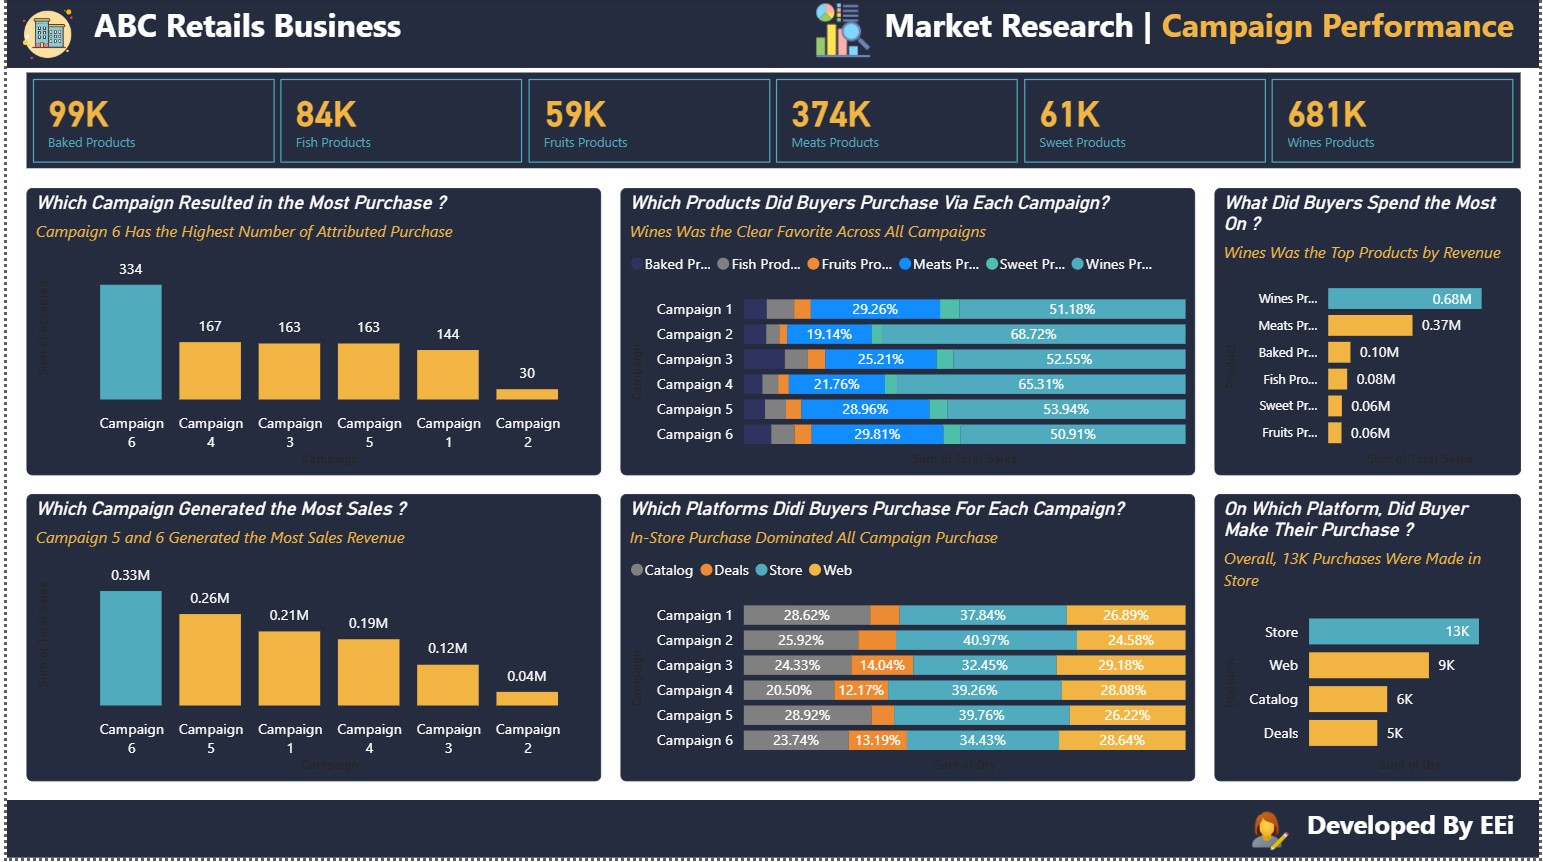

The page's visual inventory and layout, read from the dashboard file:
{"tool":"powerbi","page":{"name":"Campaign Performance","canvas":[1280,720],"ordinal":0},"visuals":[{"type":"shape","box":[0,0,1280,60],"z":0},{"type":"shape","box":[0,672,1280,48],"z":1000},{"type":"textbox","box":[67.5,0,332.2,57.1],"z":2000},{"type":"textbox","box":[688,0,576,64],"z":3000},{"type":"textbox","box":[688,672,576,48],"z":4000},{"type":"clusteredColumnChart","title":"Which Campaign Resulted in the Most Purchase ?","fields":{"Category":["Campaign.Campaign"],"Y":["Sum(Campaign.Accepted)"]},"box":[16,160,480,240],"z":5000},{"type":"columnChart","title":"Which Campaign Generated the Most Sales ?","fields":{"Category":["Campaign.Campaign"],"Y":["Sum(Product.Total Sales)"]},"box":[16,416,480,240],"z":6000},{"type":"hundredPercentStackedBarChart","title":"Which Products Did Buyers Purchase Via Each Campaign?","fields":{"Category":["Campaign.Campaign"],"Y":["Sum(Product.Total Sales)"],"Series":["Product.Product"]},"box":[512,160,480,240],"z":7000},{"type":"clusteredBarChart","title":"What Did Buyers Spend the Most On ?","fields":{"Category":["Product.Product"],"Y":["Sum(Product.Total Sales)"]},"box":[1008,160,256,240],"z":8000},{"type":"hundredPercentStackedBarChart","title":"Which Platforms Didi Buyers Purchase For Each Campaign?","fields":{"Category":["Campaign.Campaign"],"Y":["Sum(Platform.Qty)"],"Series":["Platform.Platform"]},"box":[512,416,480,240],"z":9000},{"type":"clusteredBarChart","title":"On Which Platform, Did Buyer Make Their Purchase ?","fields":{"Category":["Platform.Platform"],"Y":["Sum(Platform.Qty)"]},"box":[1008,416,256,240],"z":10000},{"type":"cardVisual","fields":{"Data":["Sum(Market_Research.Amount Baked Products)","Sum(Market_Research.Amount Fish Products)","Sum(Market_Research.Amount Fruits Products)","Sum(Market_Research.Amount Meats Products)","Sum(Market_Research.Amount Sweet Products)","Sum(Market_Research.Amount Wines Products)"]},"box":[16,64,1248,80],"z":11000},{"type":"image","box":[658,0,81.8,57.1],"z":12000},{"type":"image","box":[1029.1,672,46.7,48],"z":13000},{"type":"image","box":[0,0,67.5,63.6],"z":14000}]}

Visuals, with their boxes in screenshot pixels (x1, y1, x2, y2), scaled from the page's 1280x720 canvas onto the 1543x862 screenshot:
shape: 0 0 1542 72
shape: 0 805 1542 861
textbox: 81 0 482 68
textbox: 829 0 1524 77
textbox: 829 805 1524 861
"Which Campaign Resulted in the Most Purchase ?" clusteredColumnChart: 19 192 598 479
"Which Campaign Generated the Most Sales ?" columnChart: 19 498 598 785
"Which Products Did Buyers Purchase Via Each Campaign?" hundredPercentStackedBarChart: 617 192 1196 479
"What Did Buyers Spend the Most On ?" clusteredBarChart: 1215 192 1524 479
"Which Platforms Didi Buyers Purchase For Each Campaign?" hundredPercentStackedBarChart: 617 498 1196 785
"On Which Platform, Did Buyer Make Their Purchase ?" clusteredBarChart: 1215 498 1524 785
cardVisual - Sum(Market_Research.Amount Baked Products) x Sum(Market_Research.Amount Fish Products): 19 77 1524 172
image: 793 0 892 68
image: 1241 805 1297 861
image: 0 0 81 76
